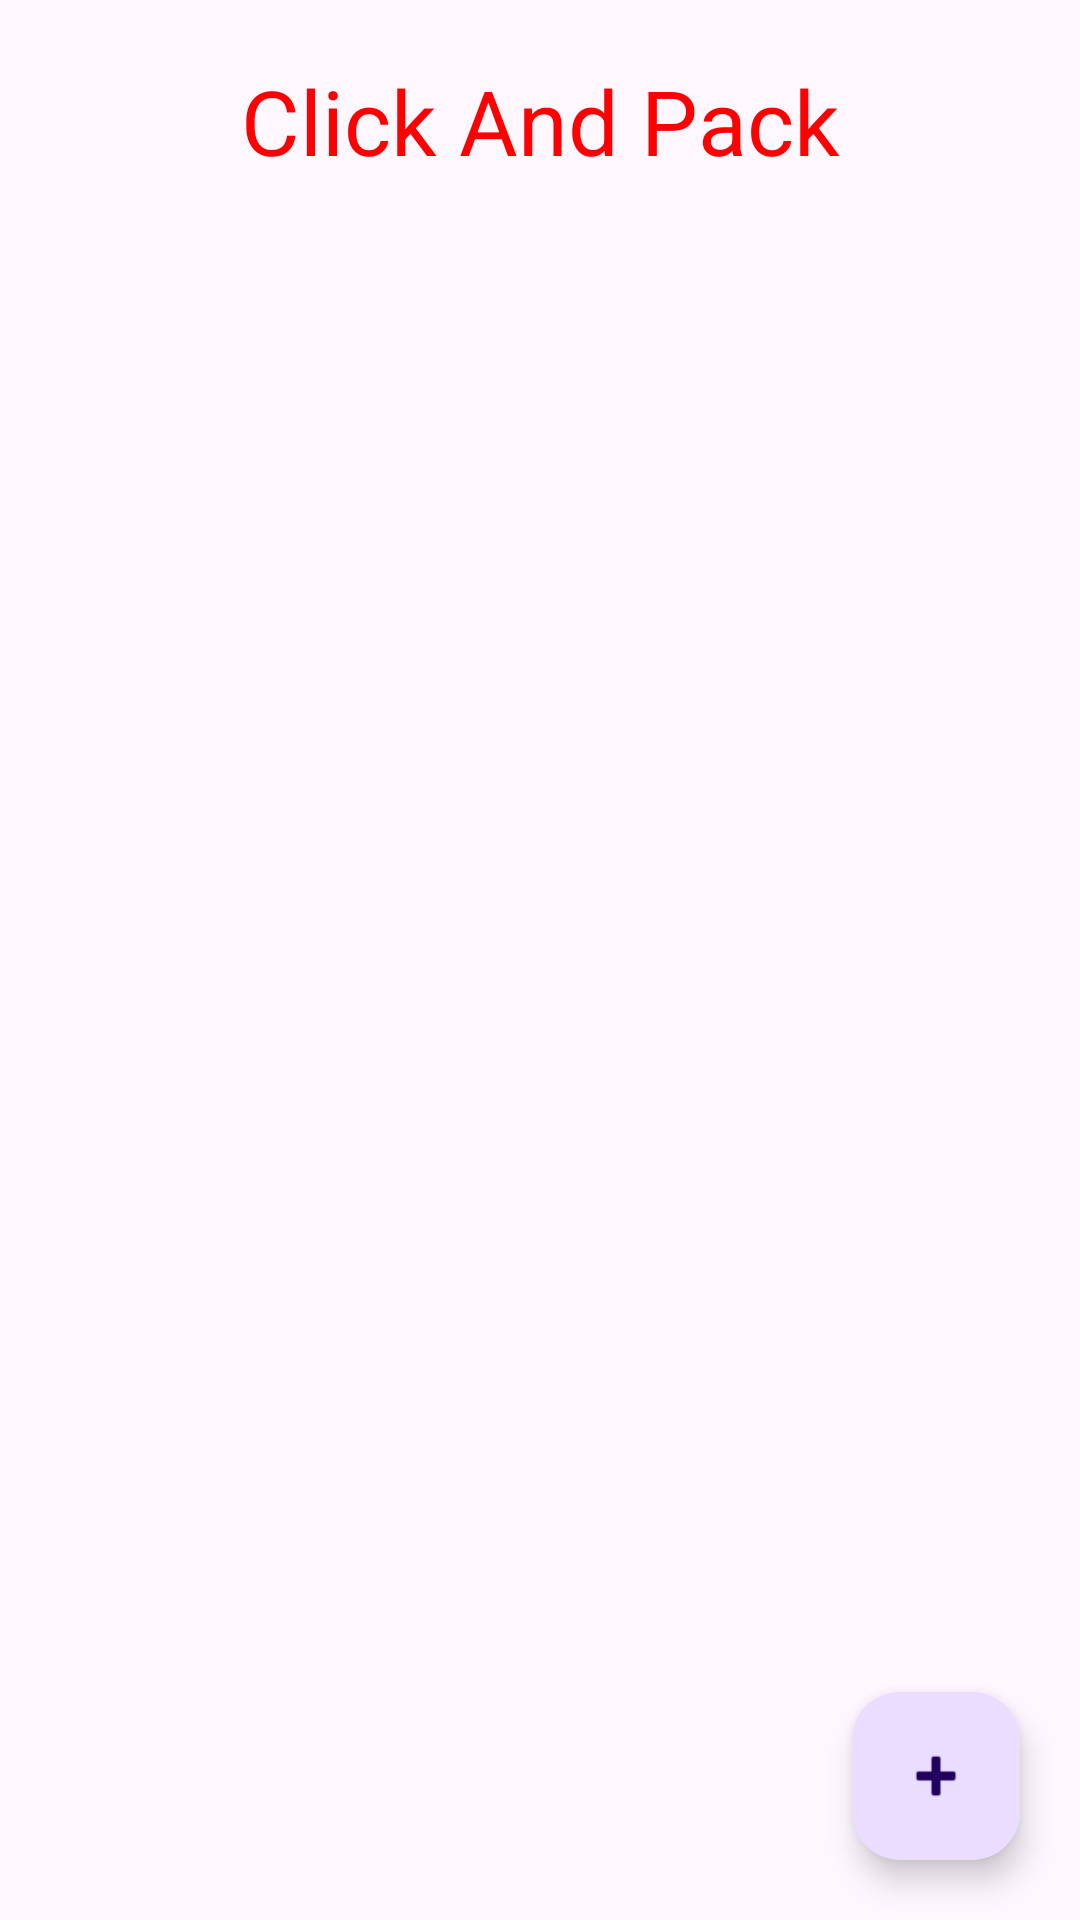

Where icons sit on this 1080×1920 app screen, as (x1, y1, x2, y2):
add: (852, 1692, 1020, 1860)
